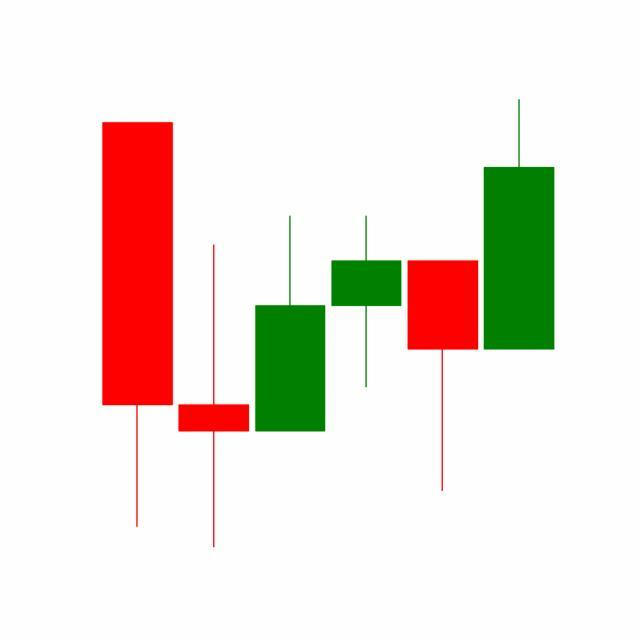Hammer: (404, 258, 482, 494)
